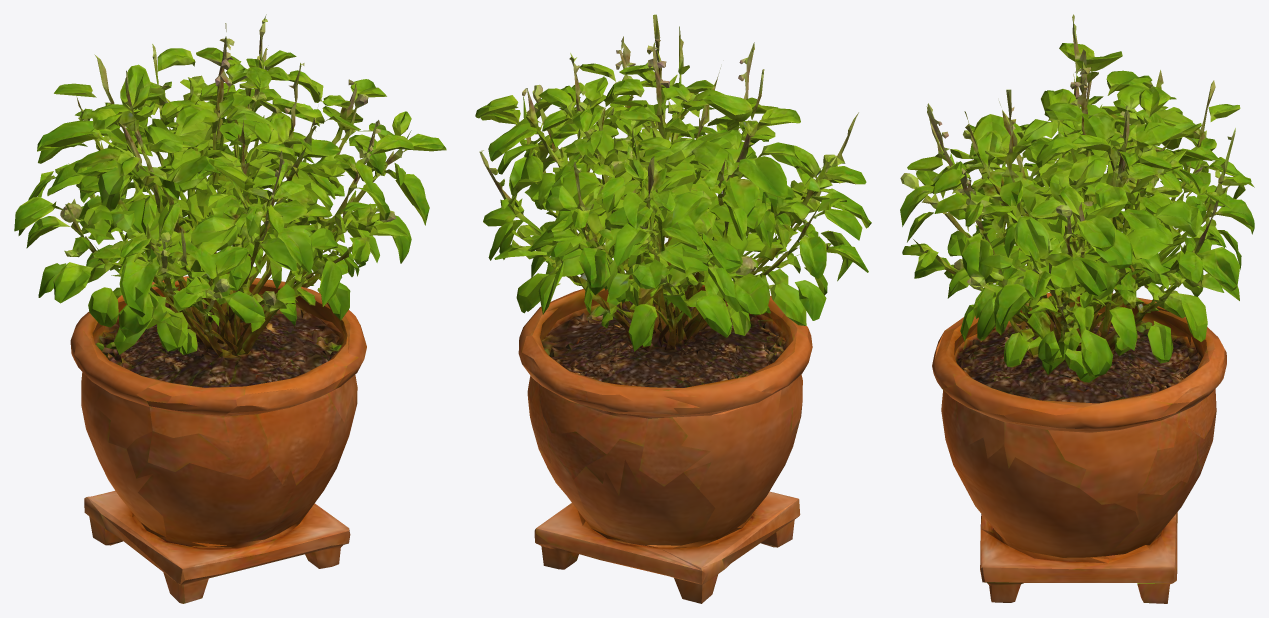
The model's file is w4tulsi.glb.
3 views of the same model, side by side, from view 1: azimuth 30°, elevation 25°; view 2: azimuth 150°, elevation 25°; view 3: azimuth 270°, elevation 25° (orthographic).
Visible parts, largest first — view 1: output_unwrapped; view 2: output_unwrapped; view 3: output_unwrapped.
Part boxes in pixels (<box>): output_unwrapped: <box>14,14,446,603</box>; output_unwrapped: <box>475,14,871,603</box>; output_unwrapped: <box>900,14,1254,603</box>.
Bounding box in the file's own units: 0.5643 × 0.7 × 0.4305.
1 material, 1 textured.
